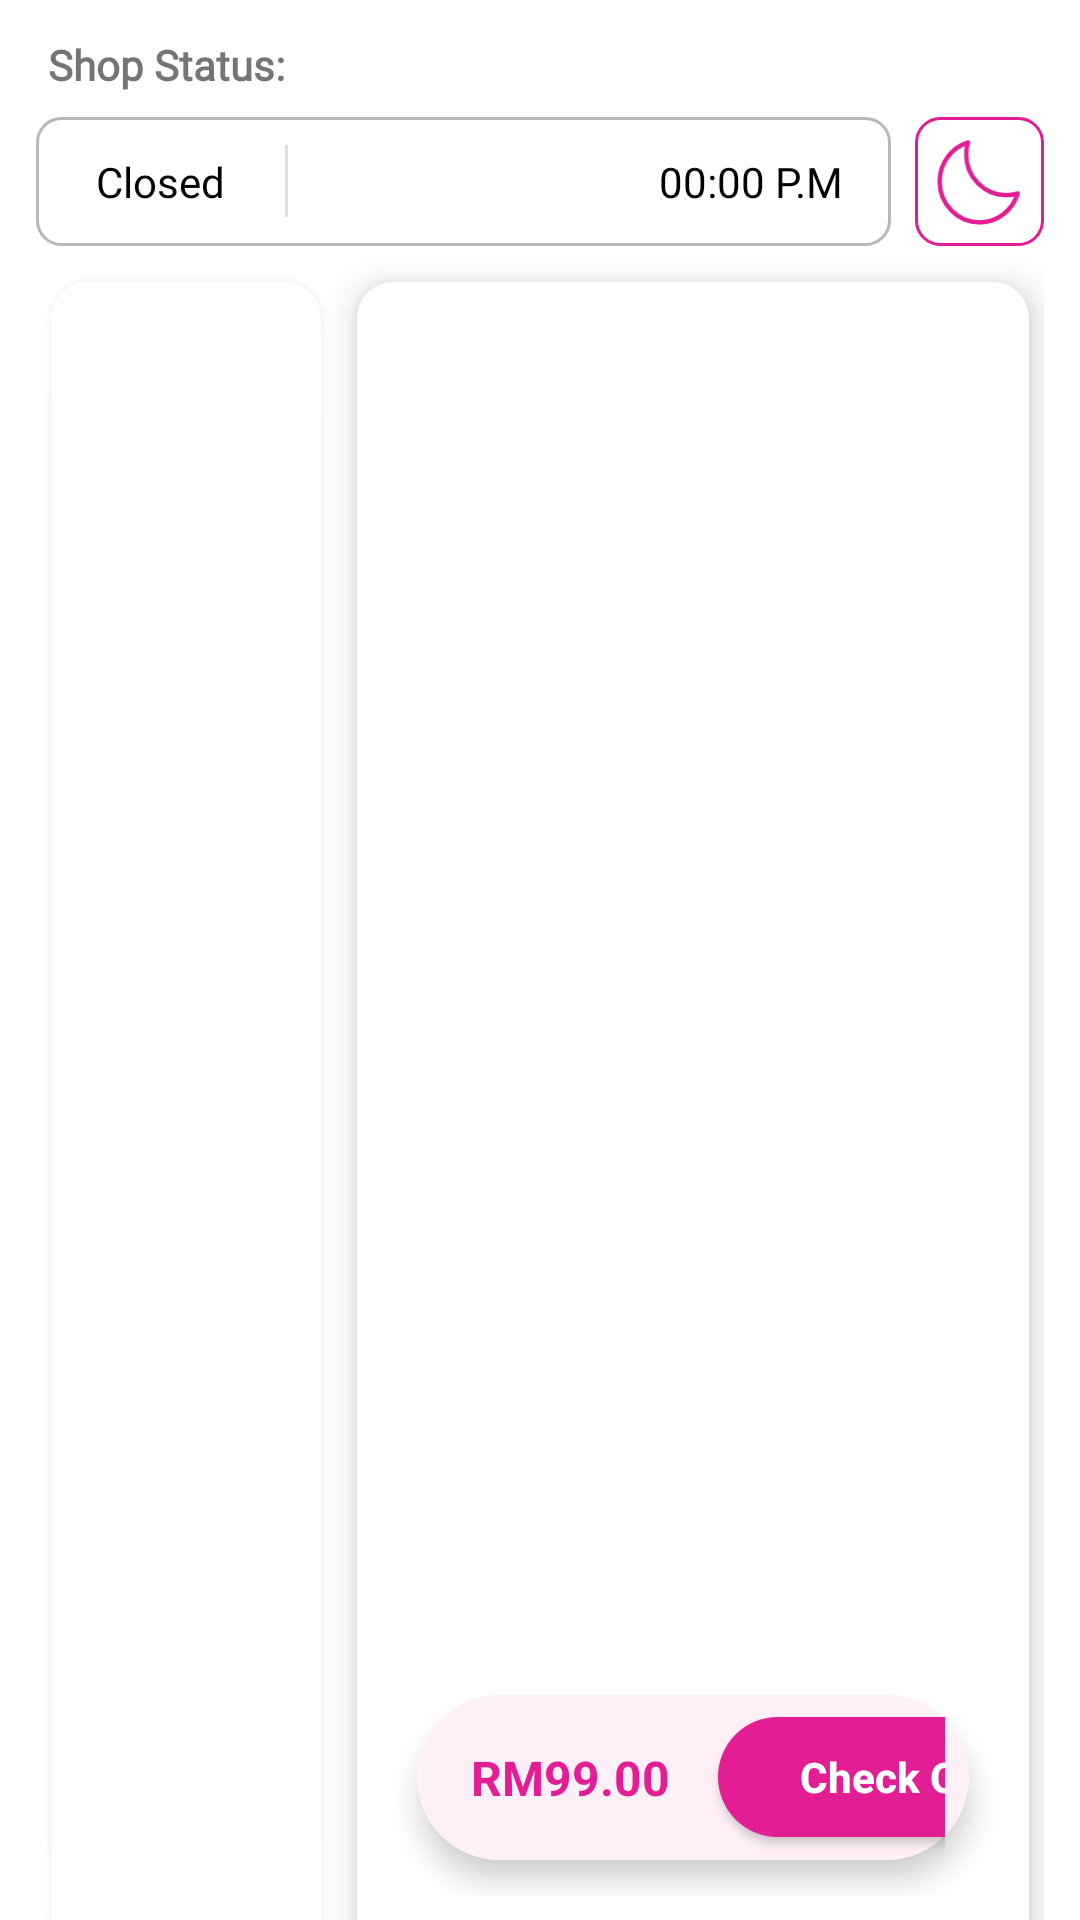

Where to tap for icons on this 1080 x 1920 app screen, as [x,y]:
moon: [979,181]
